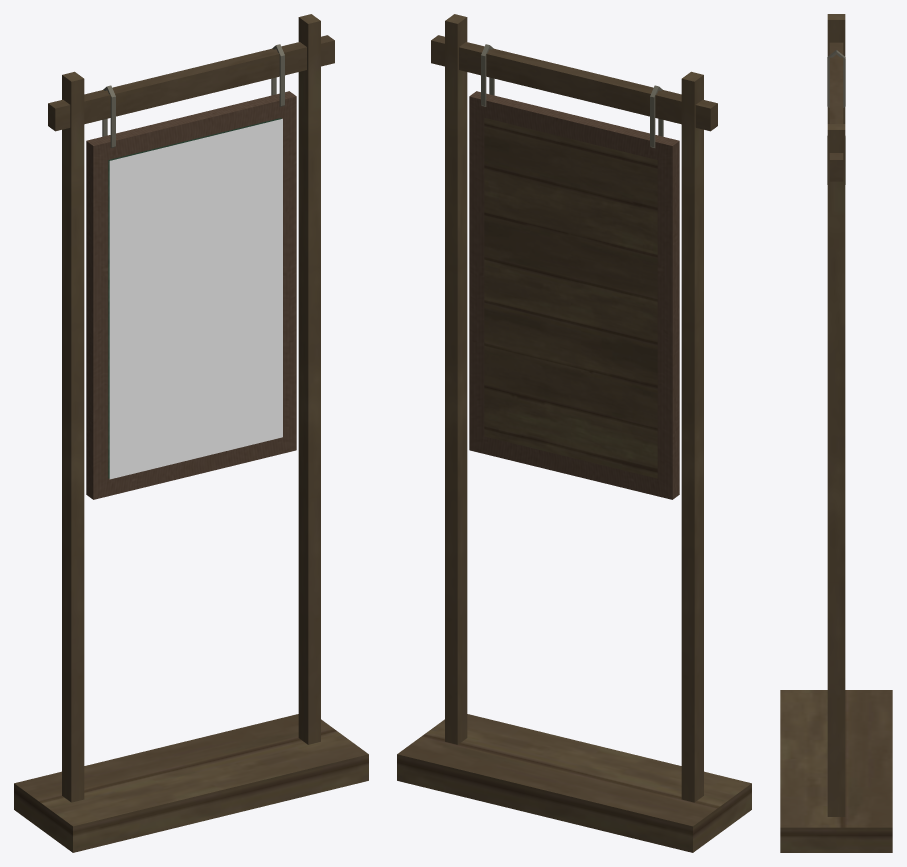
The model's file is menu-stand03.glb.
The picture shows the model from 3 angles, left to right: view 1: azimuth 30°, elevation 25°; view 2: azimuth 150°, elevation 25°; view 3: azimuth 270°, elevation 25°; orthographic projection. The views are drawn at different scales.
Parts seen in each view (by area): view 1: menu-stand03; view 2: menu-stand03; view 3: menu-stand03.
Part boxes in pixels (x1,y1,x2,y2): menu-stand03: (14, 14, 368, 852); menu-stand03: (397, 14, 751, 852); menu-stand03: (780, 14, 892, 852).
Bounding box in the file's own units: 0.7 × 1.69 × 0.2416.
Materials: 5 (5 with a texture image).
